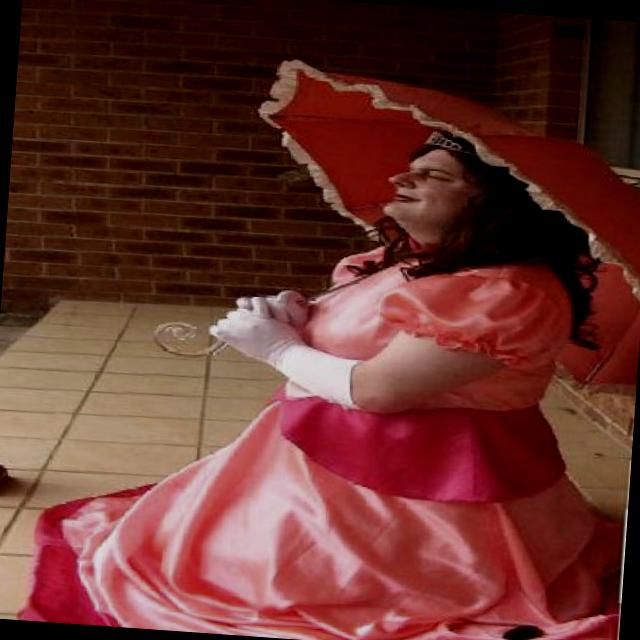Person: (39, 112, 629, 640)
